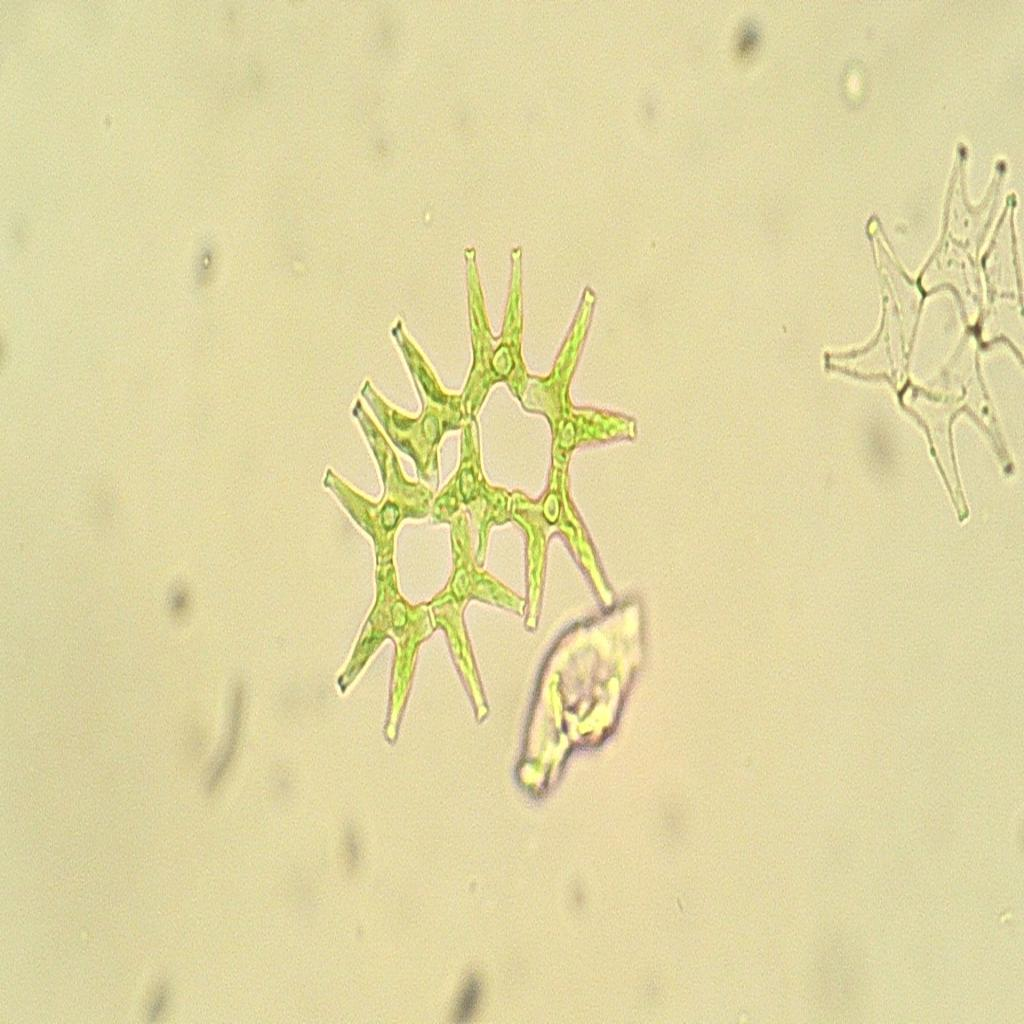Pediastrum_1TH: (292, 202, 651, 773)
